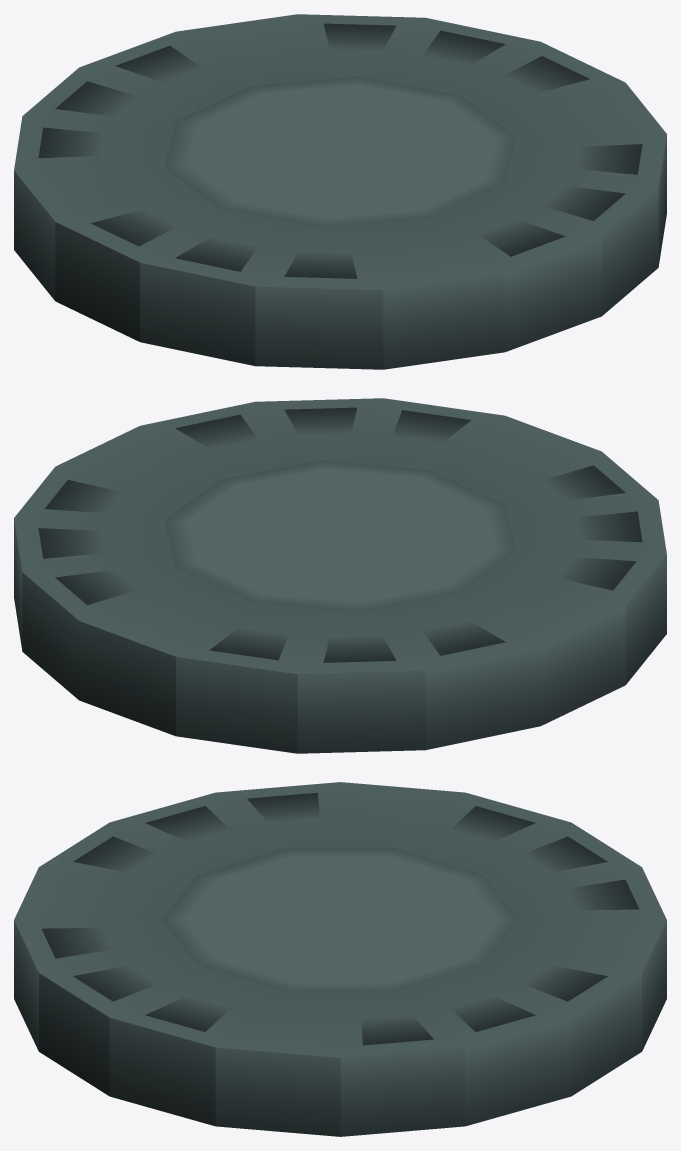
The model's file is Manhole_1B.fbx.
3 renders of one model, top to bottom at view 1: azimuth 30°, elevation 25°; view 2: azimuth 150°, elevation 25°; view 3: azimuth 270°, elevation 25°, orthographic.
Visible parts, largest first — view 1: Manhole_1B; view 2: Manhole_1B; view 3: Manhole_1B.
Boxes of the visible parts, left/top/right/bottom form: Manhole_1B: left=14, top=14, right=666, bottom=369; Manhole_1B: left=14, top=398, right=666, bottom=753; Manhole_1B: left=14, top=782, right=666, bottom=1136.
Bounding box in the file's own units: 1.5 × 0.2025 × 1.5.
